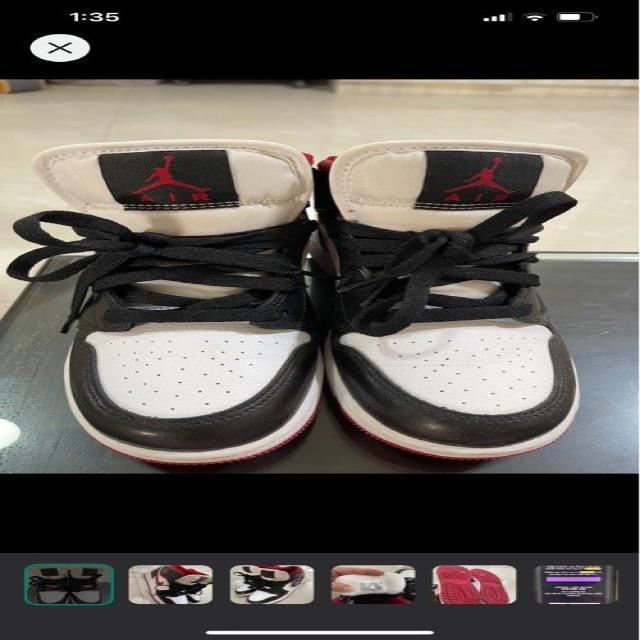nike fake jordan 1: (26, 138, 337, 466), (314, 136, 587, 458)
